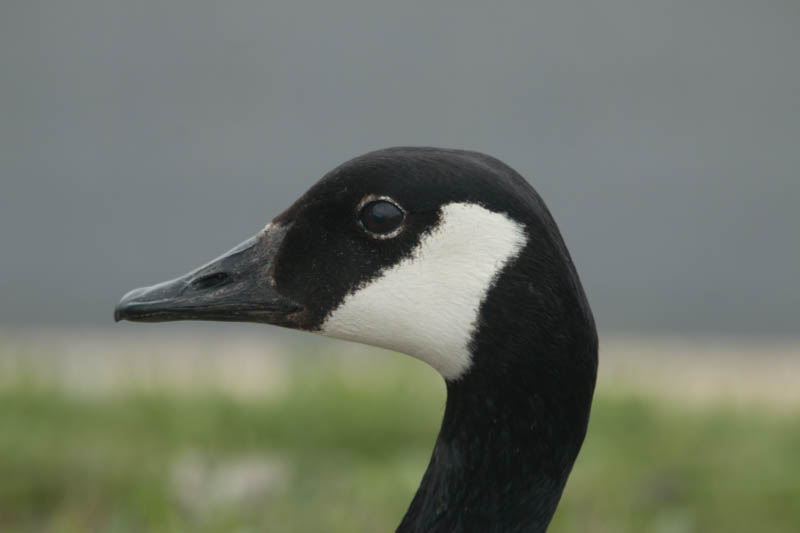goose-head: (113, 144, 599, 394)
